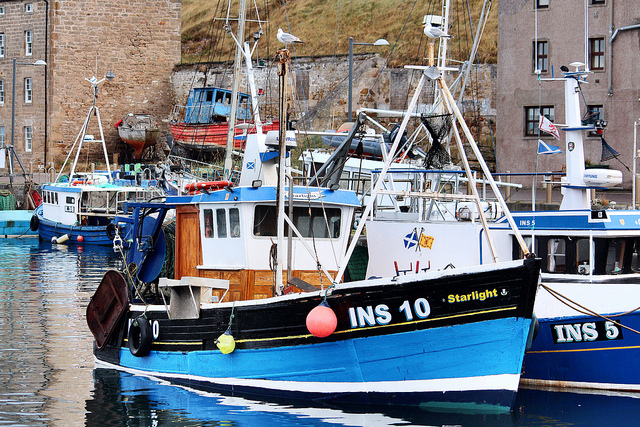fishing_boat: (93, 43, 539, 403), (31, 78, 127, 248)
